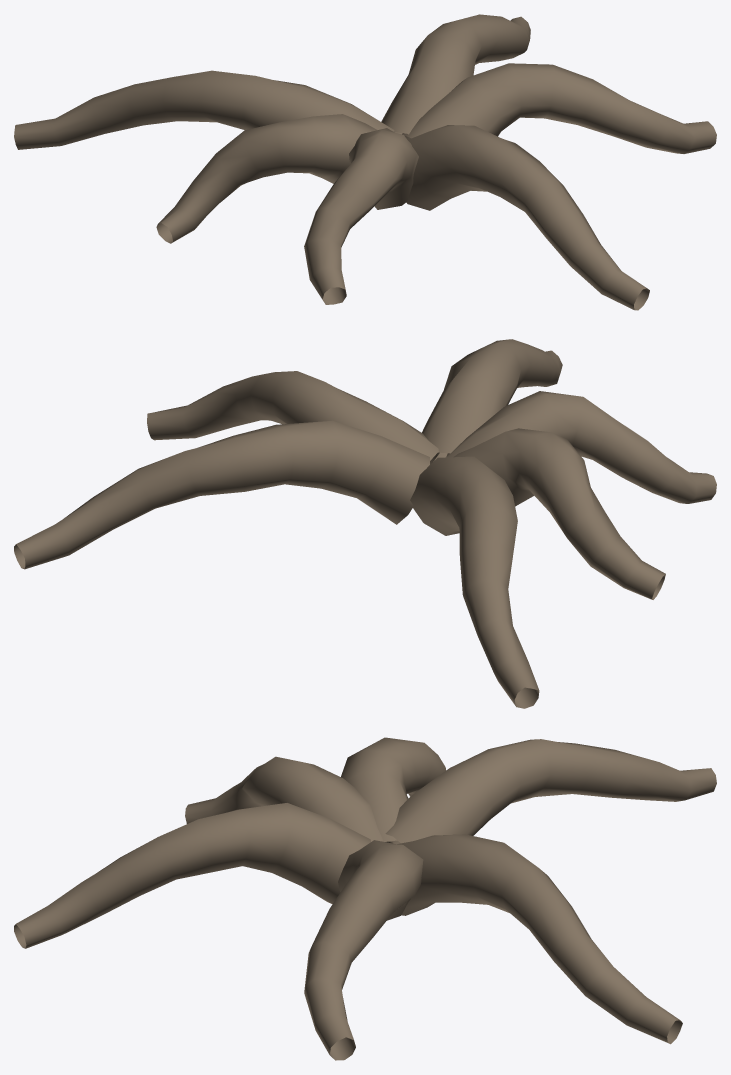
Rendered from ENV_PC_Roots_A.fbx.
3 renders of one model, top to bottom at view 1: azimuth 30°, elevation 25°; view 2: azimuth 150°, elevation 25°; view 3: azimuth 270°, elevation 25°, orthographic. The views are drawn at different scales.
Visible parts, largest first — view 1: ENV_PC_Roots_A_LOD0; view 2: ENV_PC_Roots_A_LOD0; view 3: ENV_PC_Roots_A_LOD0.
Part boxes in pixels (bbox=[...]): ENV_PC_Roots_A_LOD0: bbox=[14, 14, 716, 310]; ENV_PC_Roots_A_LOD0: bbox=[14, 339, 716, 708]; ENV_PC_Roots_A_LOD0: bbox=[14, 737, 716, 1060].
Size of what is drawn, in the model's own units: 9.73 by 1.96 by 10.46.
